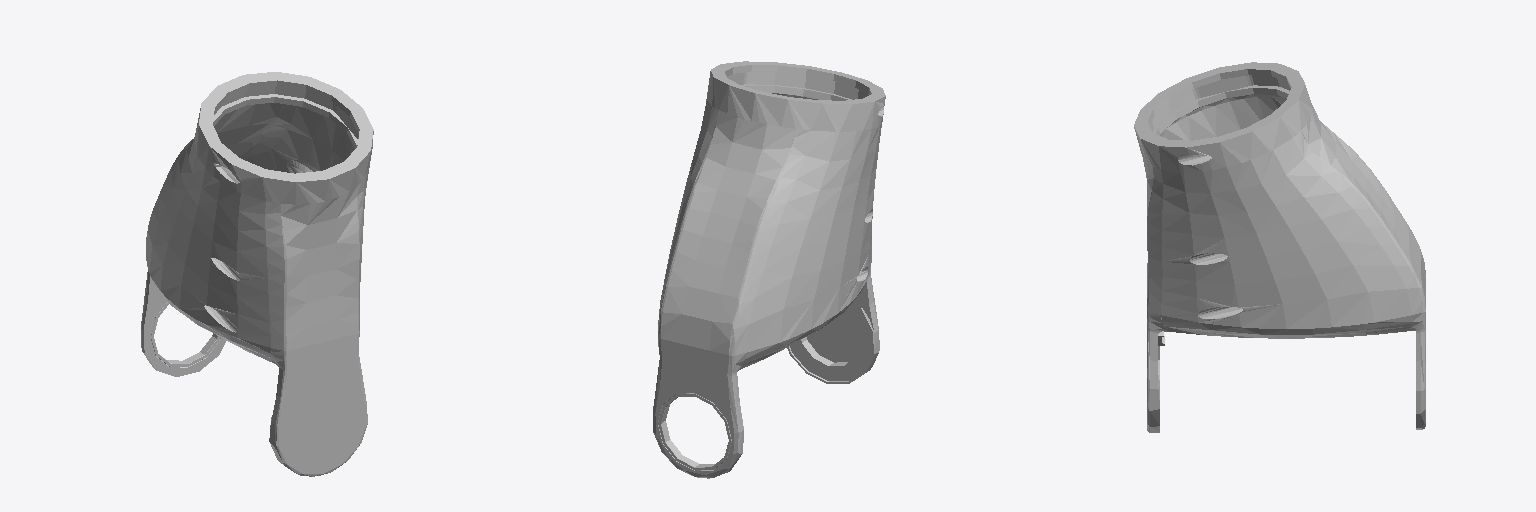
Rendered from arml_t12.obj.
The picture shows the model from 3 angles: view 1: azimuth 30°, elevation 25°; view 2: azimuth 150°, elevation 25°; view 3: azimuth 270°, elevation 25°; orthographic projection.
Bounding box in the file's own units: 0.125 × 0.2669 × 0.2058.